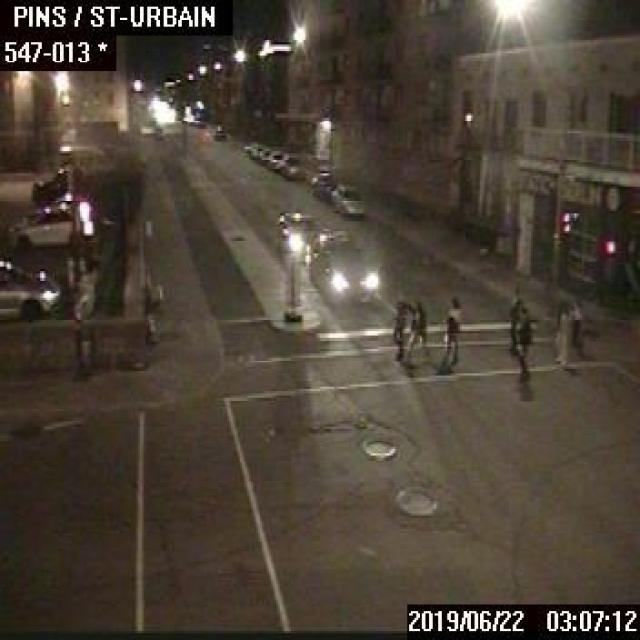pedestrian: (506, 281, 527, 356), (513, 306, 531, 380), (549, 300, 569, 360), (408, 296, 428, 354), (446, 294, 462, 352), (442, 311, 458, 369), (391, 298, 406, 359), (567, 297, 581, 347)
vehicle: (307, 227, 377, 302), (0, 257, 58, 319), (7, 204, 78, 252), (31, 166, 102, 203), (27, 195, 106, 224), (274, 209, 318, 253), (329, 182, 363, 215), (308, 171, 335, 198), (279, 156, 306, 177), (267, 150, 285, 168), (248, 144, 264, 158), (212, 122, 226, 138), (259, 147, 272, 161)
